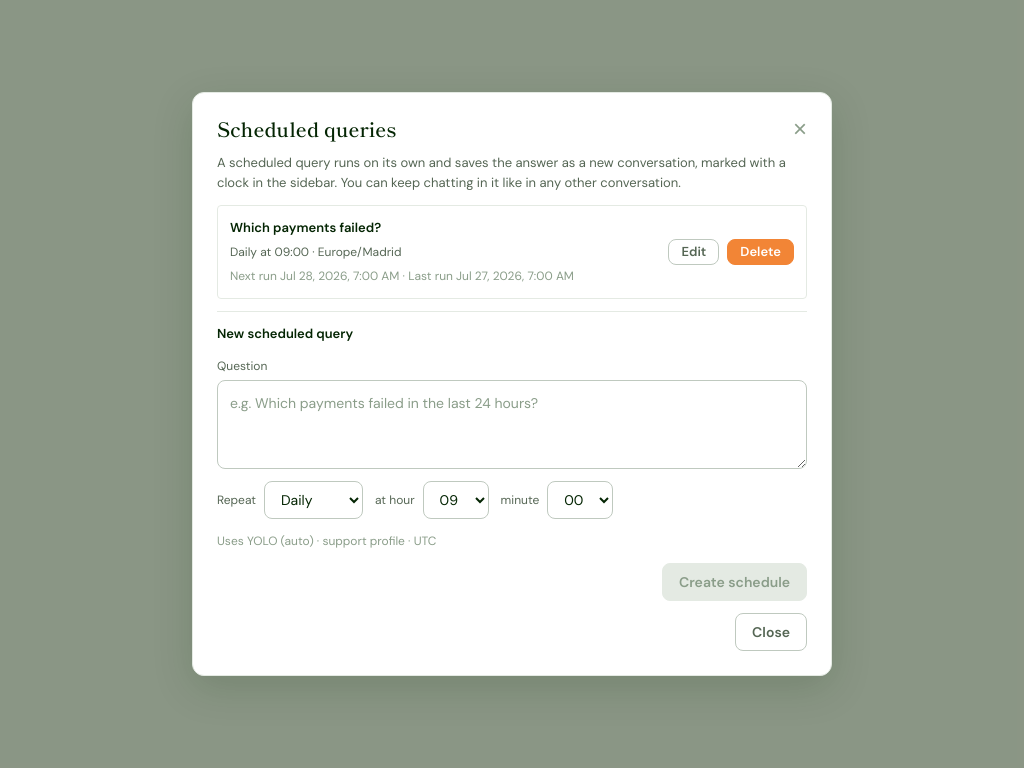
it: SchedulesModal › cancels the delete confirmation
Click the button "Delete": point(761, 252) x1=727 y1=239 x2=794 y2=265
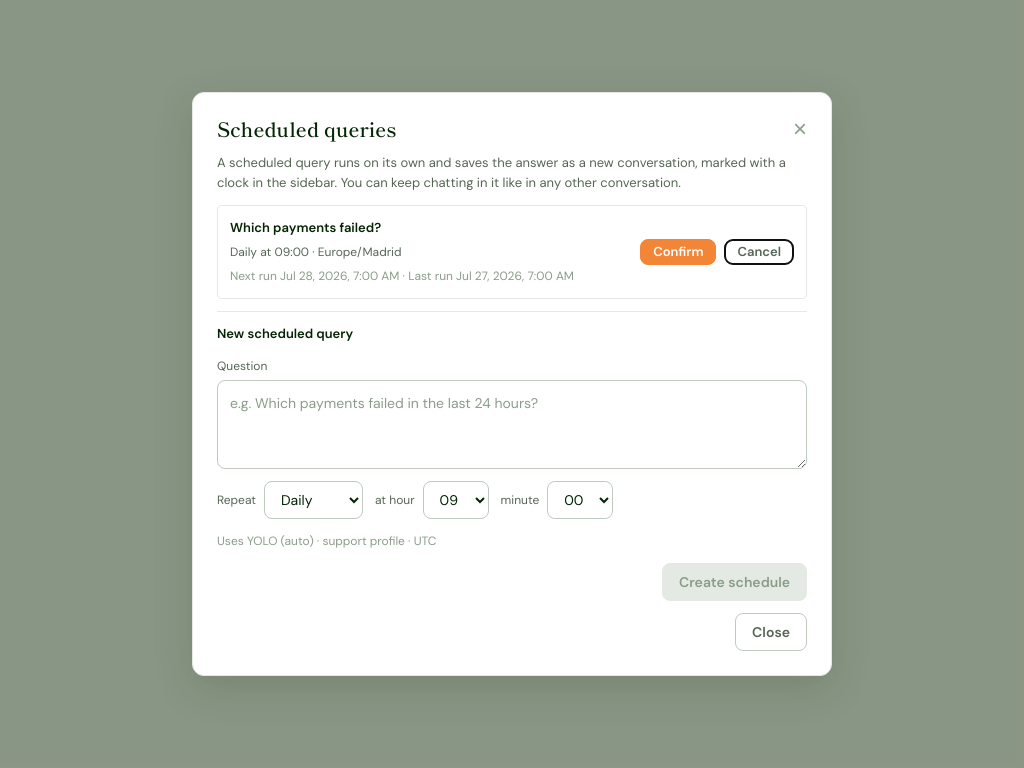
Click the button "Cancel": point(759, 252) x1=724 y1=239 x2=794 y2=265
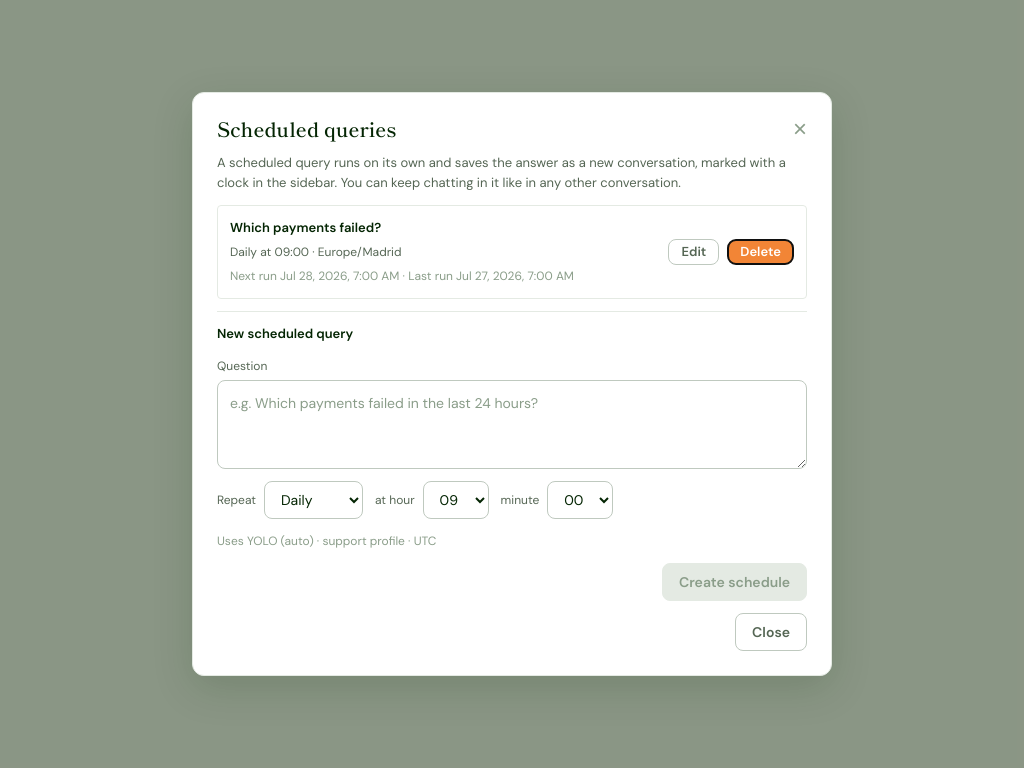
expect the button "Delete" is shown: met, box x1=727 y1=239 x2=794 y2=265
